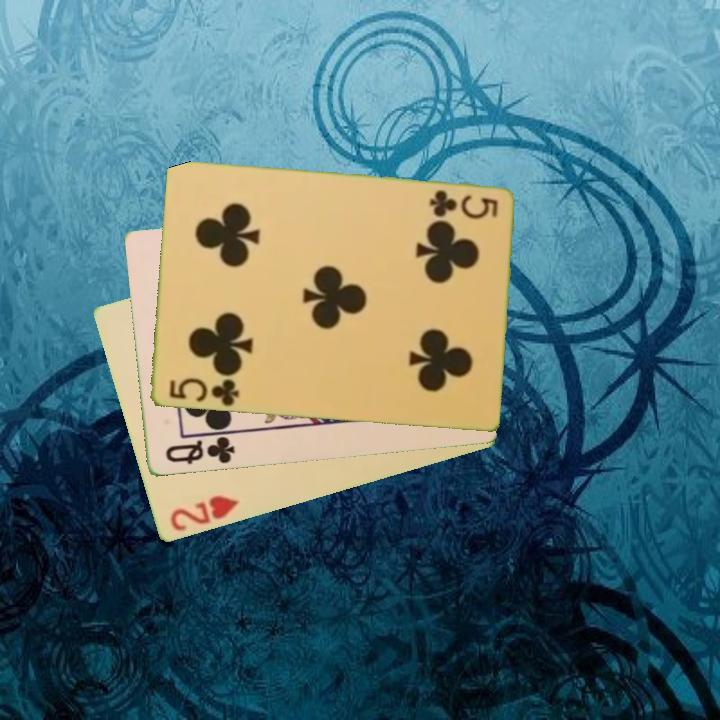2h: (166, 492, 242, 535)
5c: (425, 186, 501, 222), (165, 375, 241, 409)
Qc: (161, 433, 238, 468)
